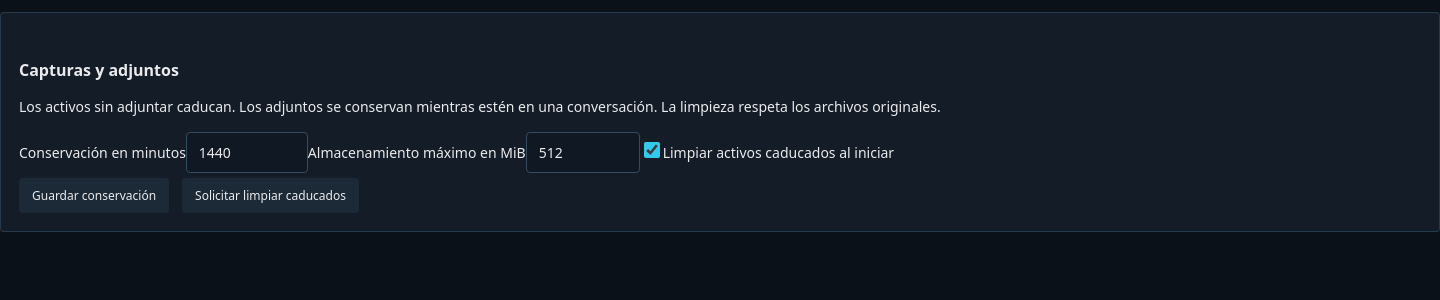
Test: retention validates bounds and cleanup runs only after an explicit request
Step 1. Replace the text in the number field labelled "Conservación en minutos" with "1" → (247, 153), box [186,132,308,173]
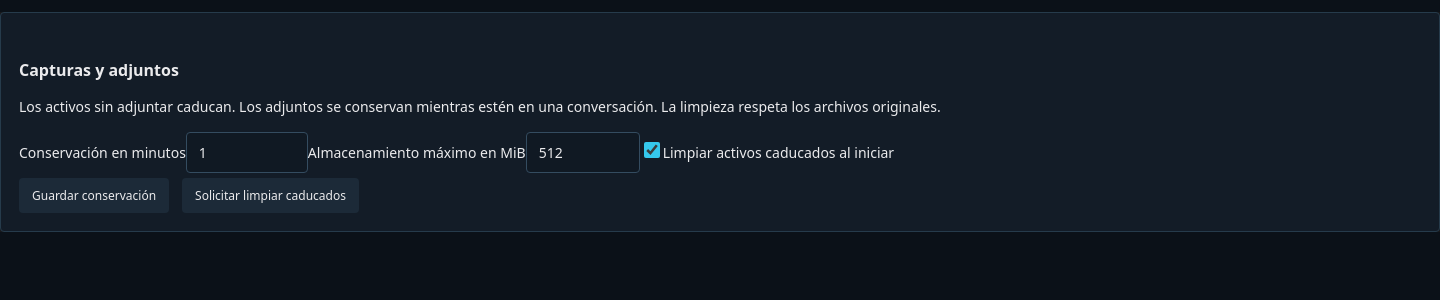
Step 2. Click the button "Guardar conservación" → click(94, 196), box [19,178,169,213]
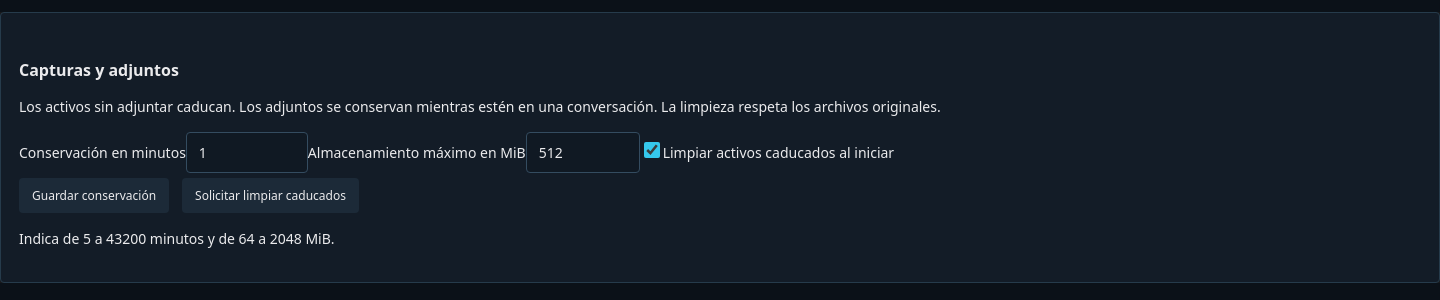
Check: the message shows "5 a 43200", box [19,229,334,248]
Step 3. Replace the text in the number field labelled "Conservación en minutos" with "60" → (247, 153), box [186,132,308,173]
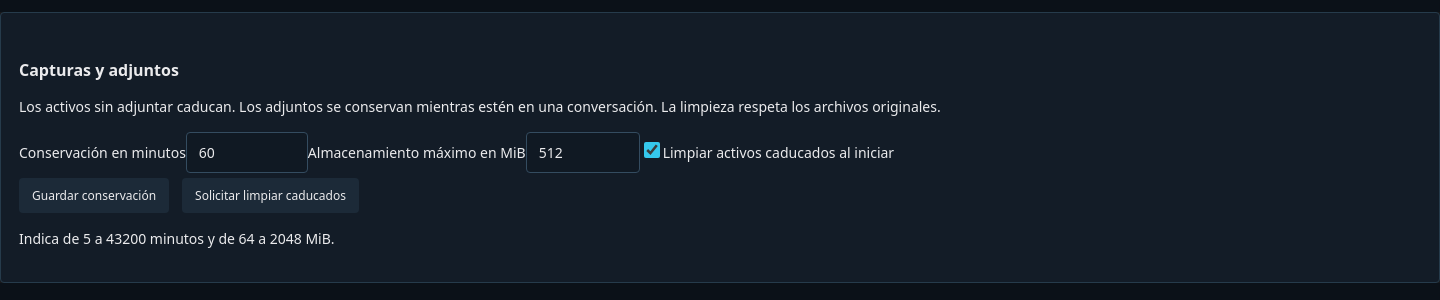
Step 4. Click the button "Guardar conservación" → click(94, 196), box [19,178,169,213]
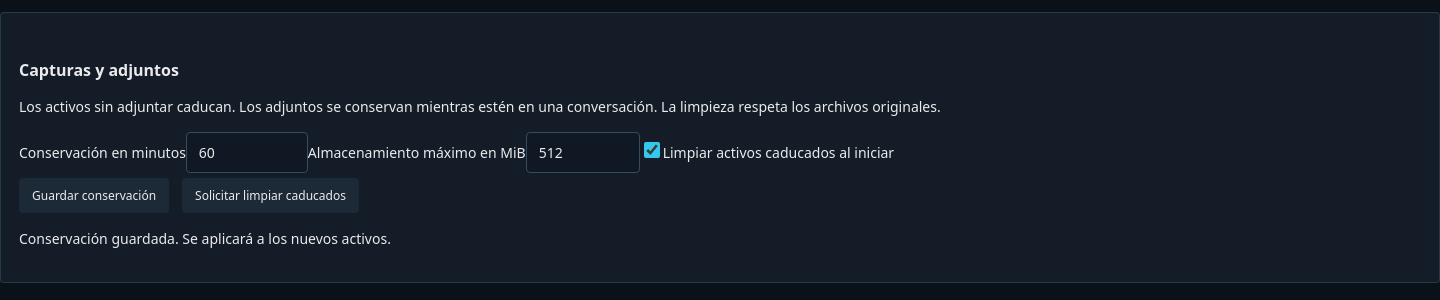
Check: the message shows "Conservación guardada", box [19,229,391,248]
Step 5. Click the button "Solicitar limpiar caducados" → click(271, 196), box [182,178,359,213]
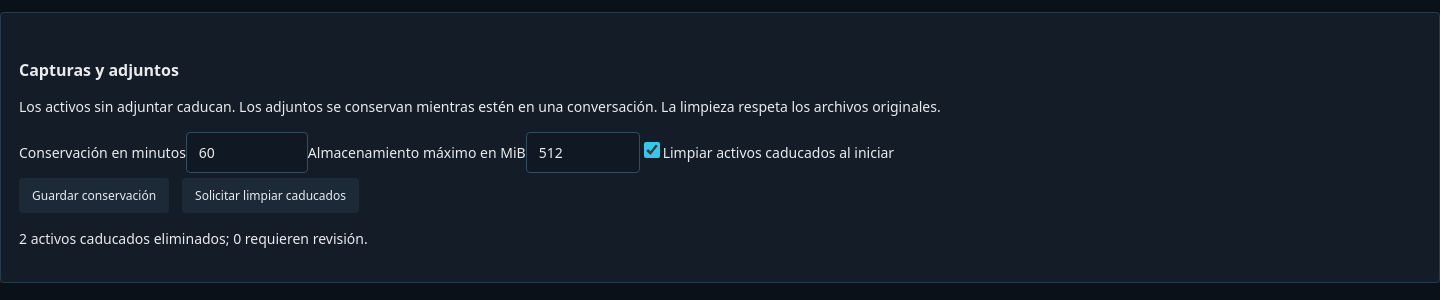
Check: the message shows "2 activos caducados eliminados", box [19,229,368,248]
